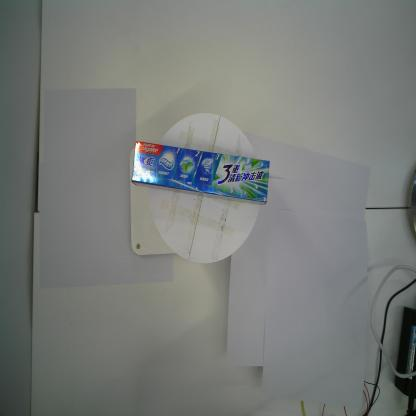Personal Hygiene: (130, 142, 271, 206)
